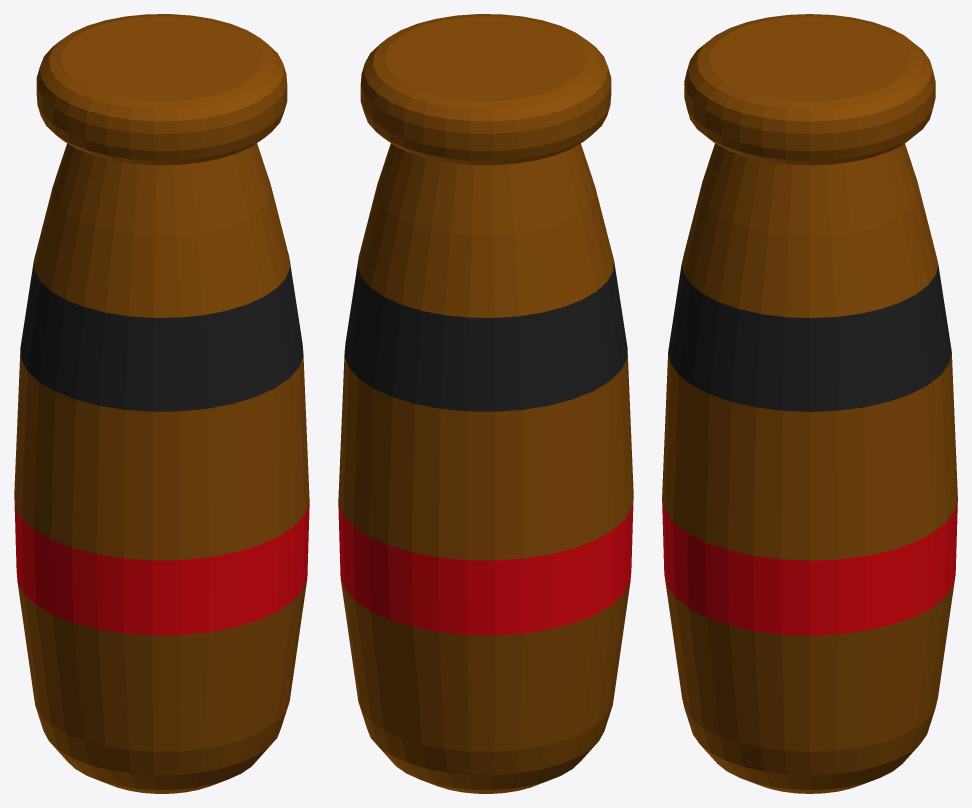
File: Bomb.fbx
3 renders of one model, left to right at view 1: azimuth 30°, elevation 25°; view 2: azimuth 150°, elevation 25°; view 3: azimuth 270°, elevation 25°, orthographic.
Visible parts, largest first — view 1: Circle; view 2: Circle; view 3: Circle.
Part boxes in pixels (box(x1,y1,x2,y2)): Circle: box(14, 14, 309, 793); Circle: box(338, 14, 633, 793); Circle: box(662, 14, 957, 793).
Bounding box in the file's own units: 244 × 647 × 244.
